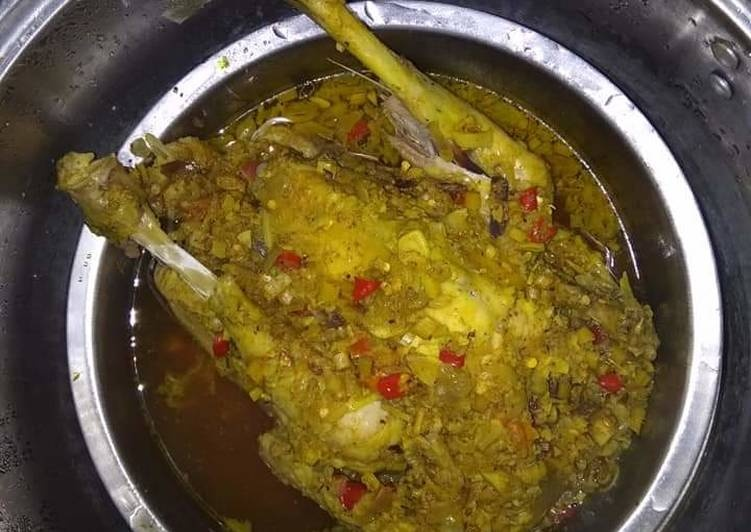ayam_betutu: (58, 1, 661, 532)
